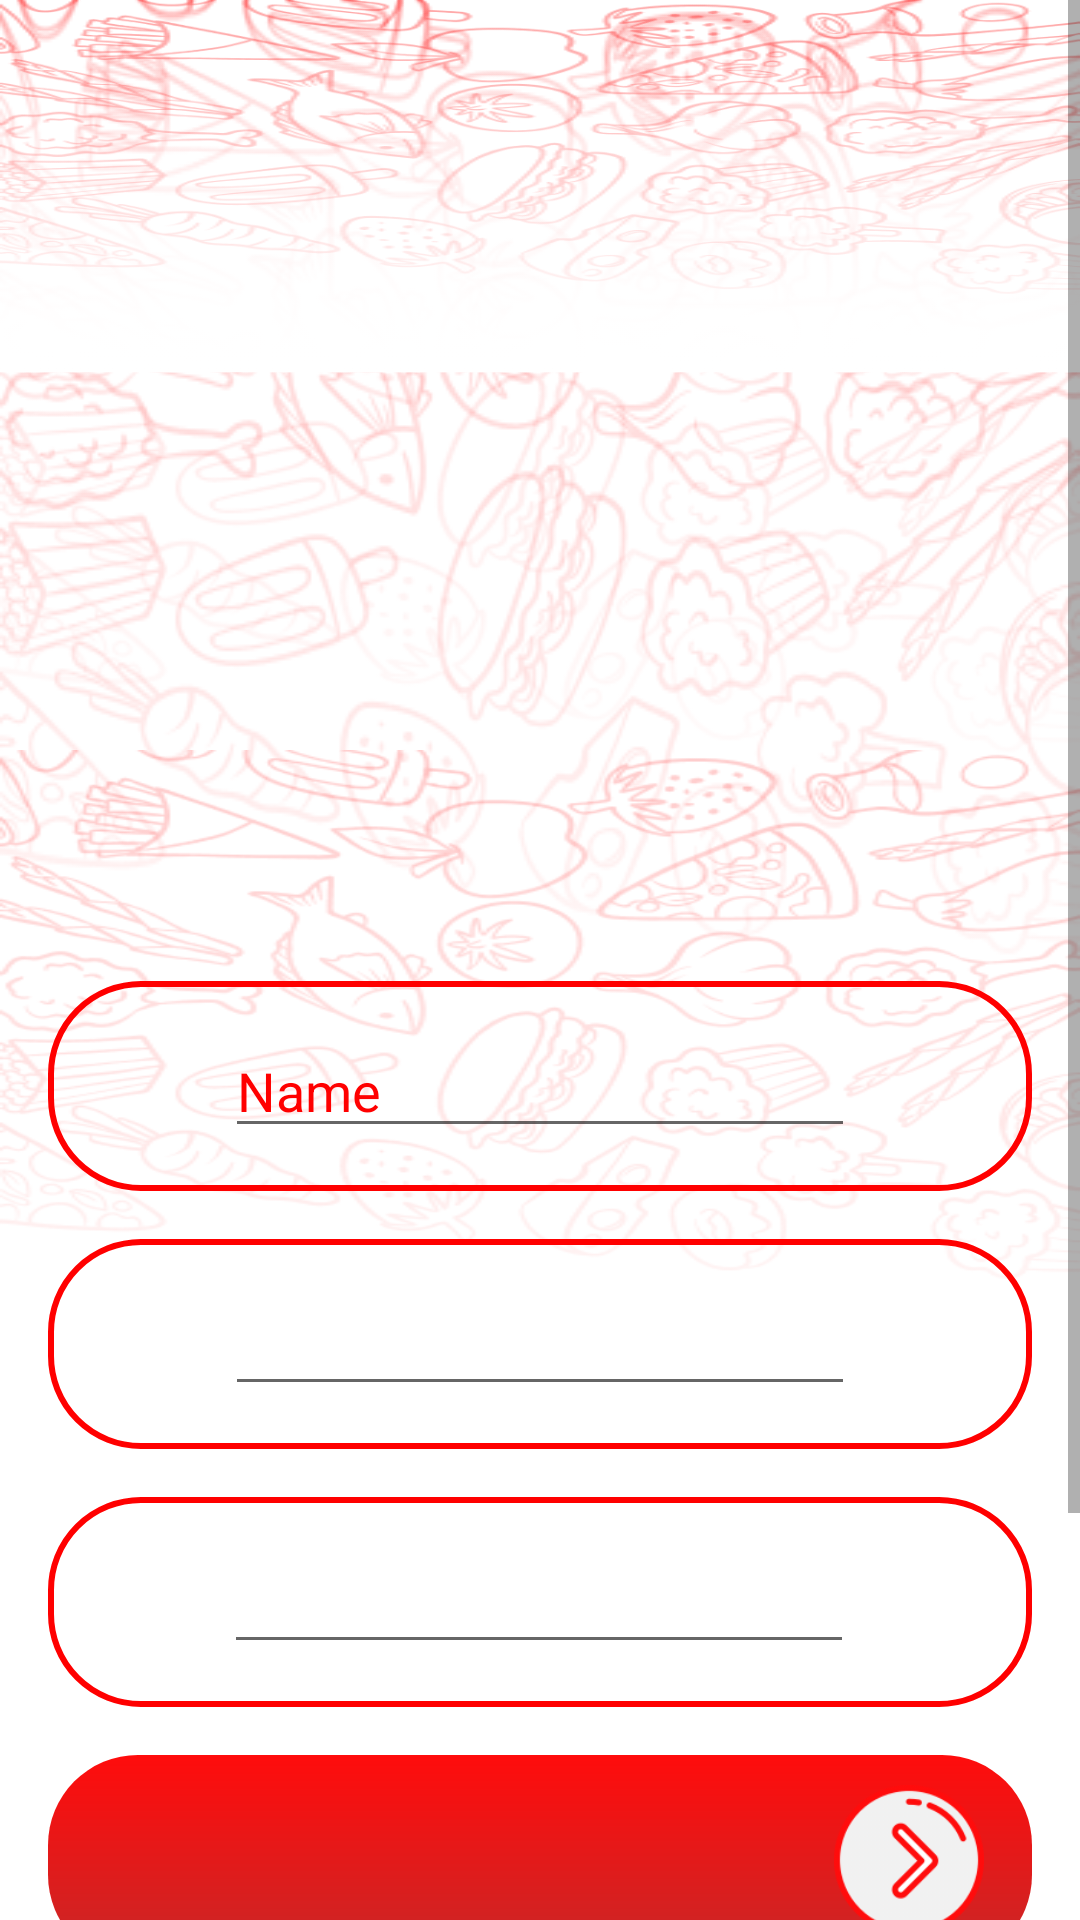

Icons on this 1080x1920 Android screen, each with its box as (x1, y1, x2, y2):
avanti: (839, 1790, 979, 1920)
